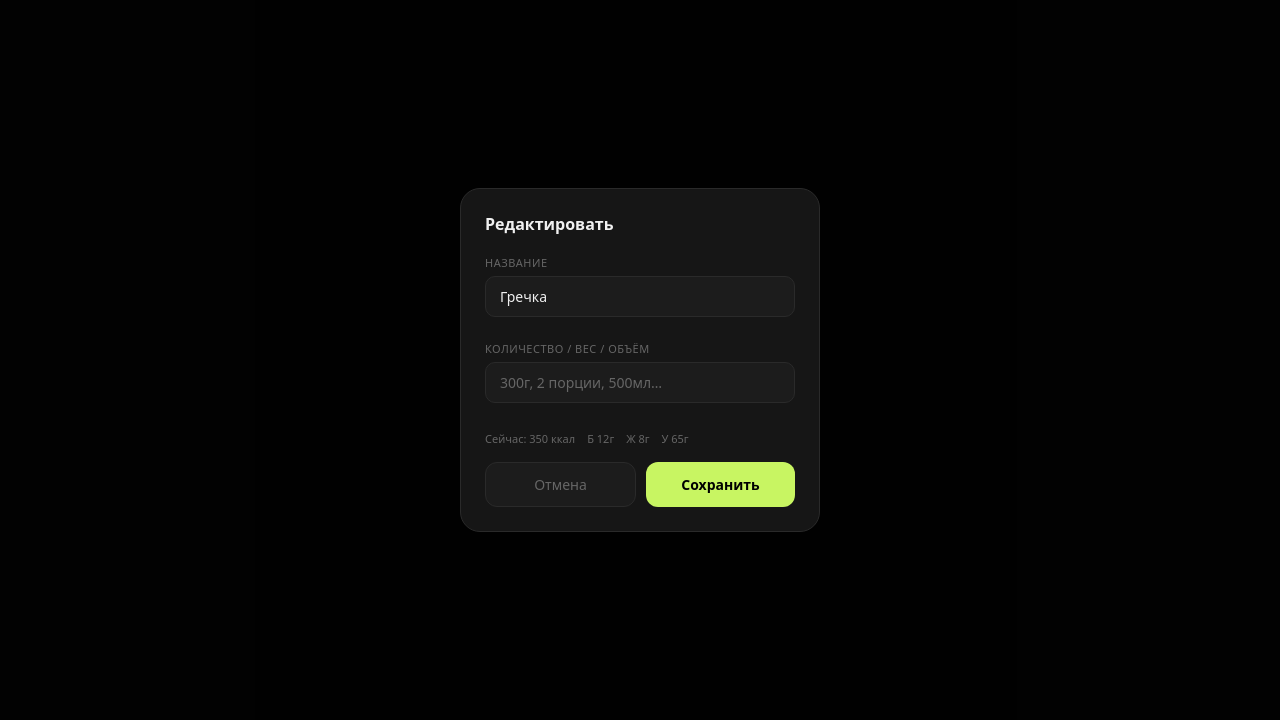
Scenario: EditMealModal › отображает ошибку если fetch упал
Step 1. Click the button "Сохранить" → (720, 484), box [646,462,795,507]
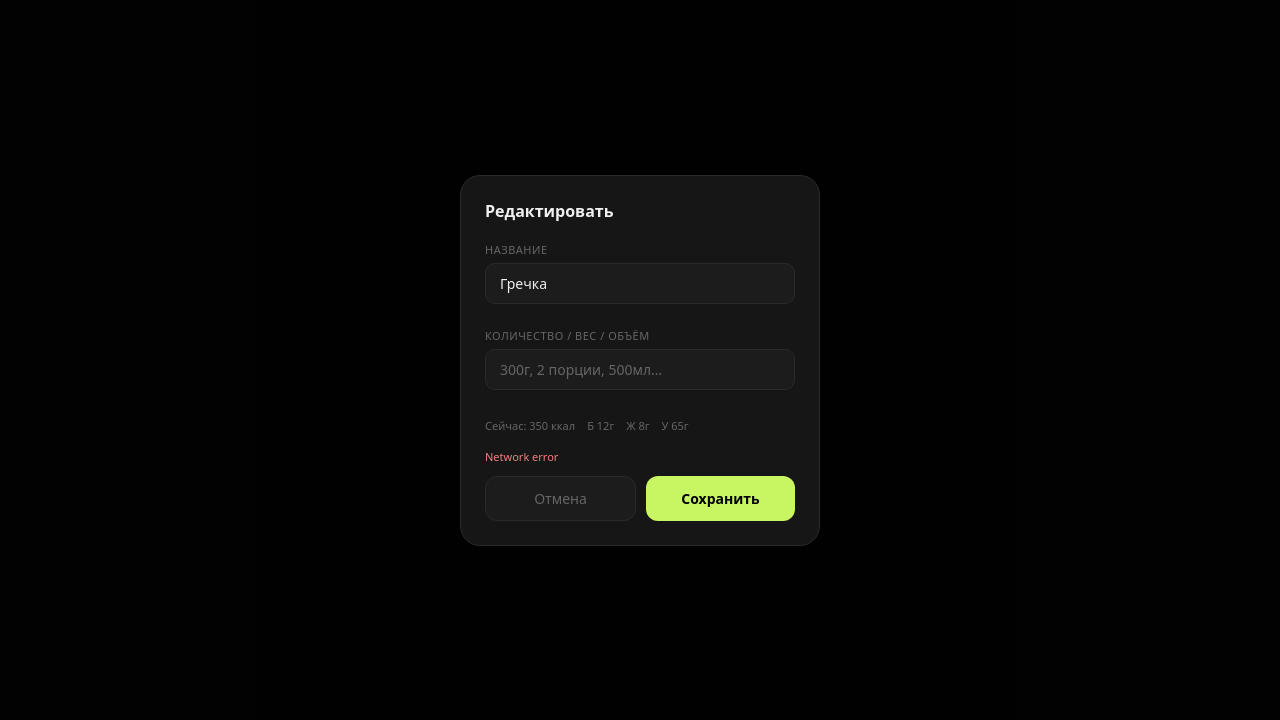
Result: the text "Network error" is shown at [485,448,558,464]
